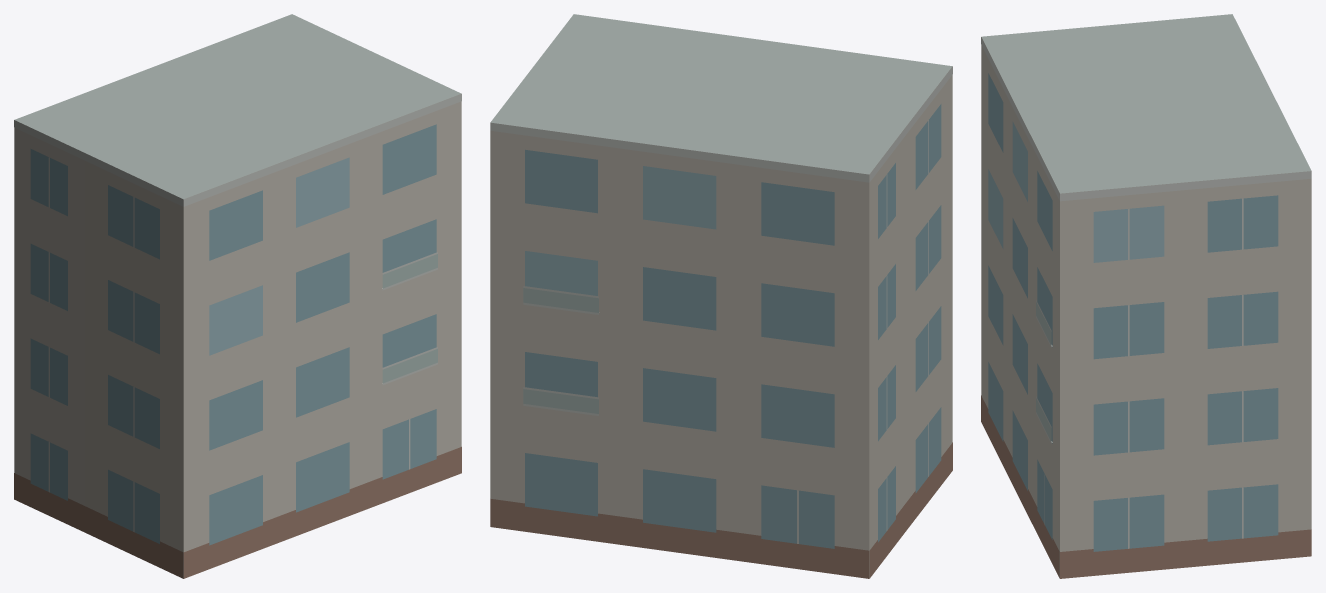
File: residential-a24c5464-fb27-44b5-85a2-d2fac8b3afd2.glb
3 views of the same model, side by side, from view 1: azimuth 30°, elevation 25°; view 2: azimuth 150°, elevation 25°; view 3: azimuth 270°, elevation 25° (orthographic). The views are drawn at different scales.
Parts seen in each view (by area): view 1: residential-a24c5464-fb27-44b5-85a2-d2fac8b3afd2.tmp; view 2: residential-a24c5464-fb27-44b5-85a2-d2fac8b3afd2.tmp; view 3: residential-a24c5464-fb27-44b5-85a2-d2fac8b3afd2.tmp.
Part boxes in pixels (bbox=[...]): residential-a24c5464-fb27-44b5-85a2-d2fac8b3afd2.tmp: bbox=[14, 14, 461, 578]; residential-a24c5464-fb27-44b5-85a2-d2fac8b3afd2.tmp: bbox=[490, 14, 952, 578]; residential-a24c5464-fb27-44b5-85a2-d2fac8b3afd2.tmp: bbox=[981, 14, 1311, 578].
Bounding box in the file's own units: 12.21 × 12.2 × 9.5.
